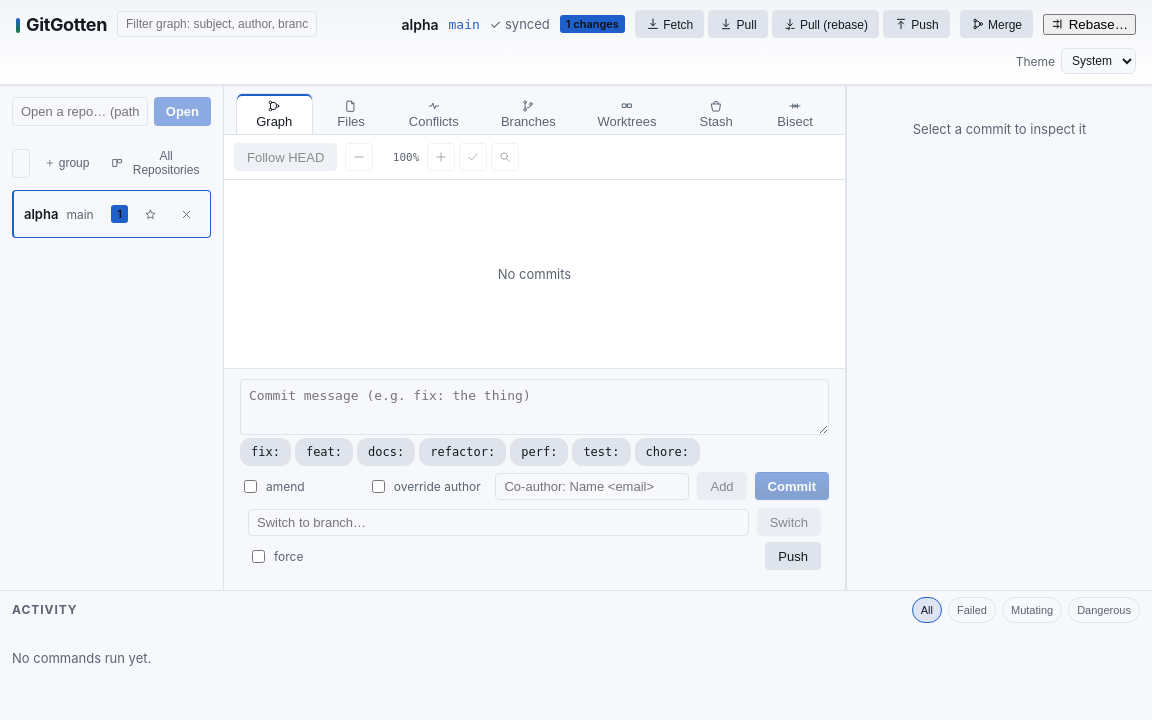
Test case: choosing a palette action previews the plan and never runs it
This screenshot has width=1152, height=720.
Press k
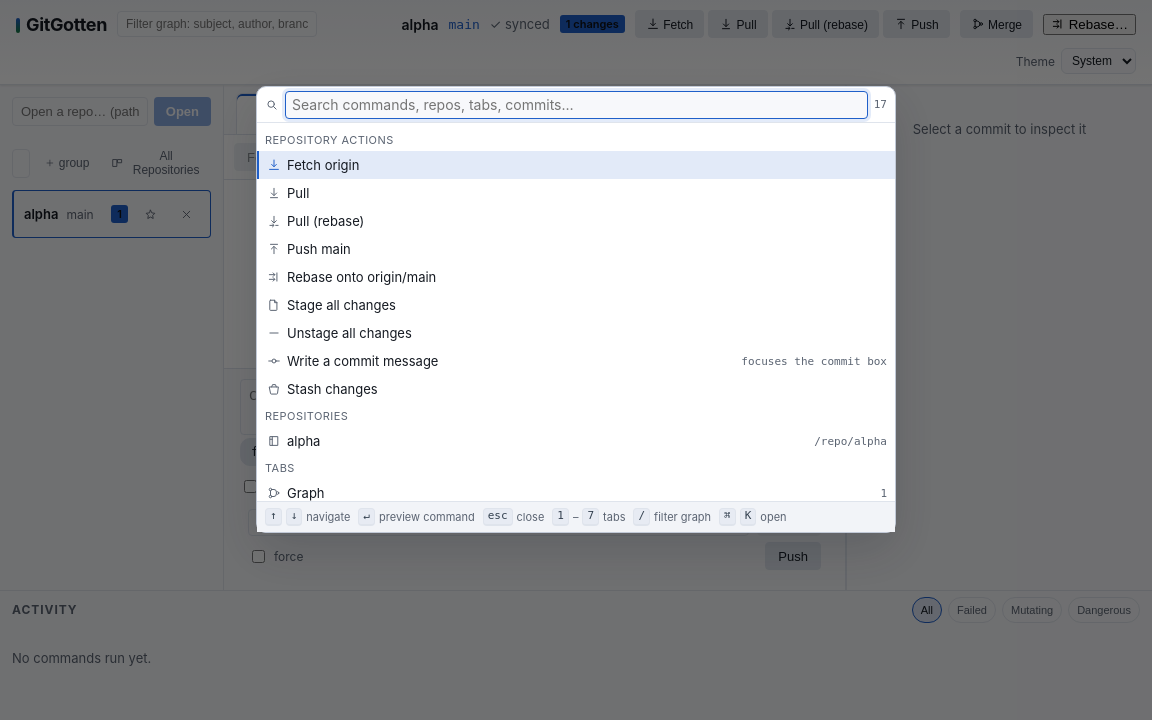
In the dropdown: (576, 105) [285,91,868,119], type "stash changes"
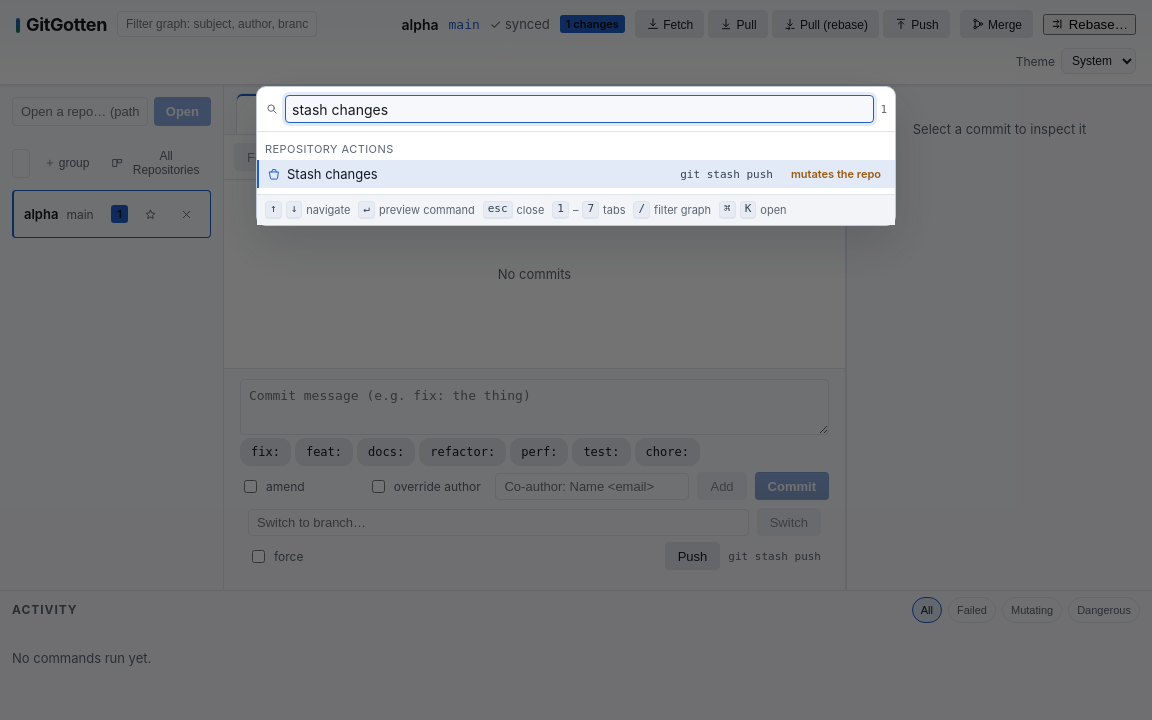
Check: the option shows "Stash changes"
Check: the option shows "git stash push"
Press Enter in the option "Stash changes git stash push mutates the repo", box [257,160,895,188]
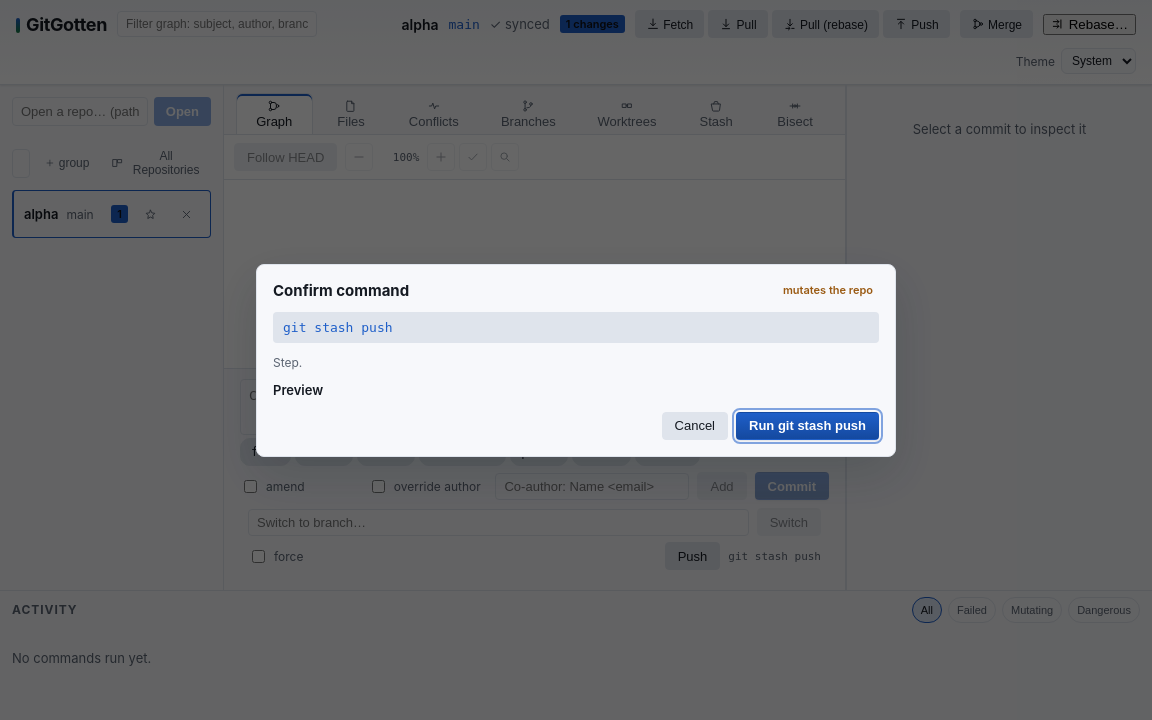
Check: the dialog "Confirm command" shows "git stash push", box [283,320,393,334]
Check: the dialog "Confirm command" shows "mutates the repo", box [783,283,873,297]
Check: the dialog "Command palette" is gone
